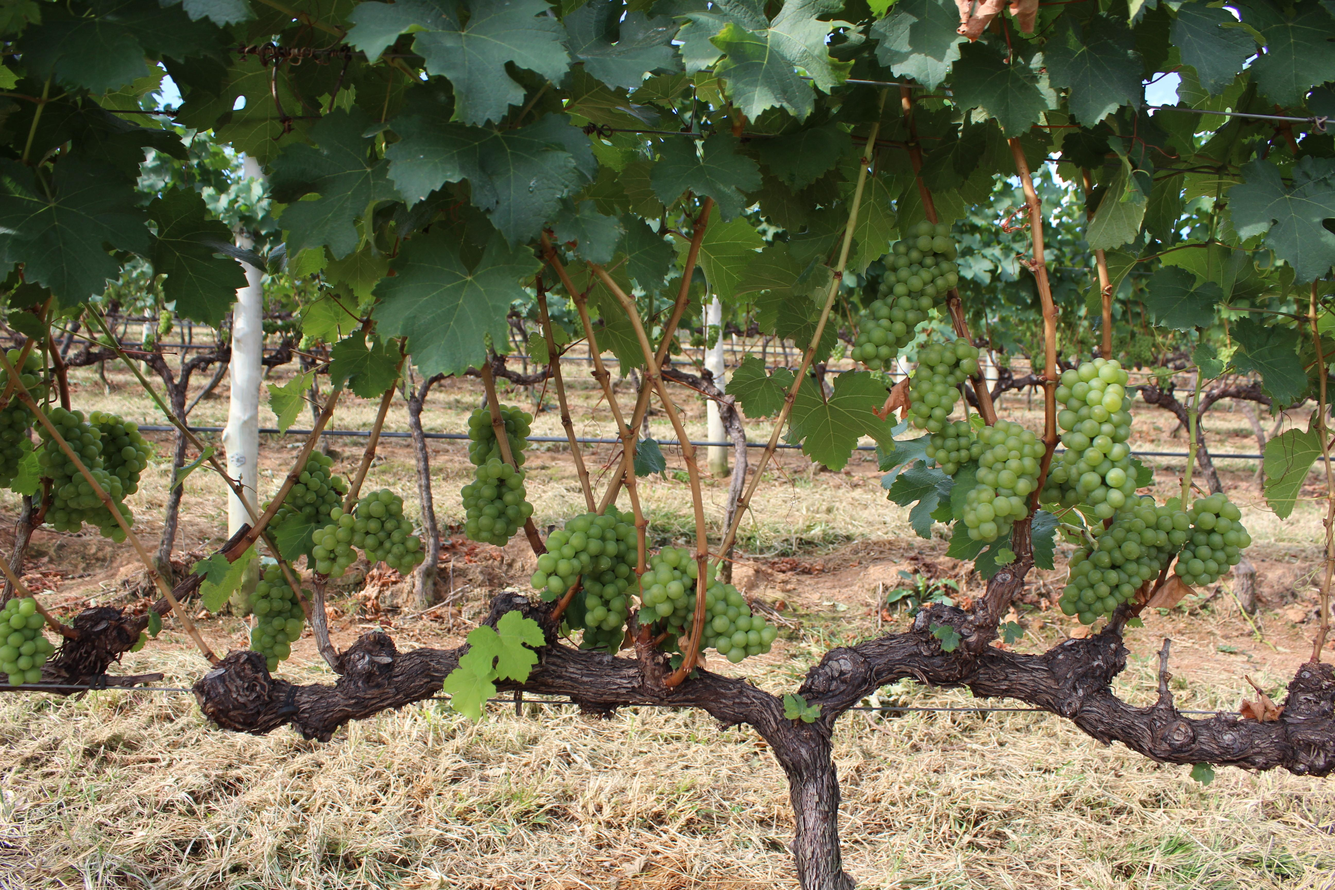leaf: (386, 88, 596, 243), (348, 0, 570, 124), (374, 229, 541, 375), (0, 157, 150, 305), (270, 107, 399, 259), (712, 0, 853, 119), (148, 188, 247, 327), (1229, 156, 1335, 281), (1044, 14, 1143, 126), (787, 371, 894, 470), (564, 0, 680, 89), (952, 42, 1056, 136), (651, 133, 761, 220), (1250, 3, 1335, 105), (871, 0, 965, 89), (1170, 2, 1256, 95), (1230, 317, 1308, 405), (756, 123, 851, 190), (698, 207, 764, 303), (1263, 415, 1321, 518), (467, 611, 545, 682), (1086, 164, 1148, 250), (1143, 266, 1223, 331), (887, 462, 953, 539), (328, 331, 400, 398), (551, 200, 624, 264), (619, 214, 676, 293), (192, 546, 257, 613), (728, 354, 793, 419), (443, 648, 496, 721), (267, 371, 315, 432), (1030, 510, 1059, 570), (634, 439, 666, 476), (1104, 195, 1111, 200), (1173, 186, 1177, 192), (676, 140, 687, 141), (460, 659, 462, 664), (1248, 16, 1250, 18), (1008, 640, 1010, 641)
